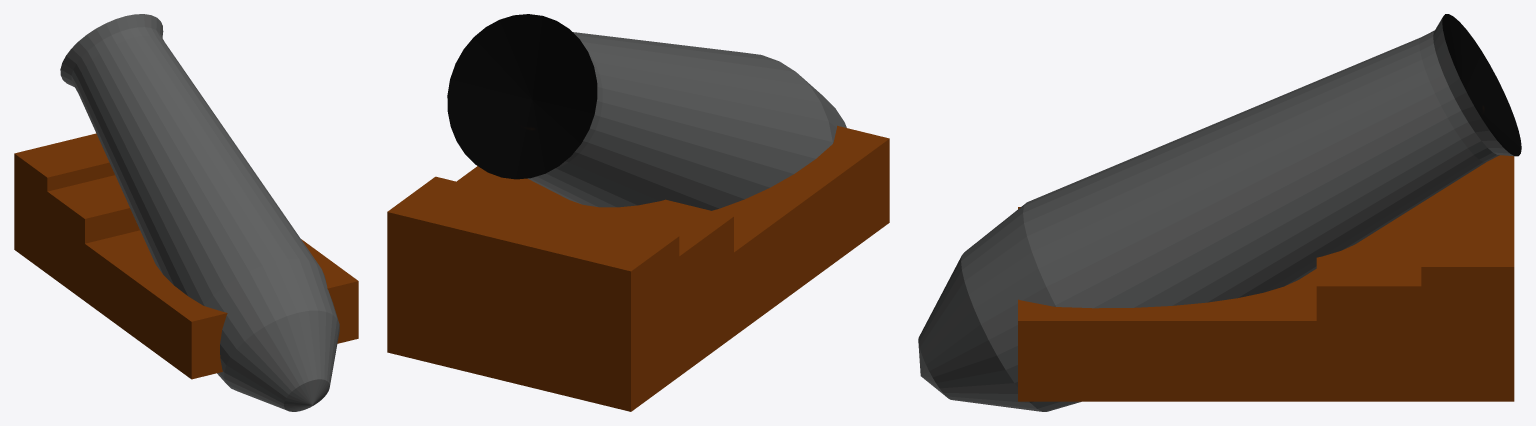
The model's file is Cannon.fbx.
3 views of the same model, side by side, from view 1: azimuth 30°, elevation 25°; view 2: azimuth 150°, elevation 25°; view 3: azimuth 270°, elevation 25° (orthographic). The views are drawn at different scales.
Parts seen in each view (by area): view 1: Cannon1.006; view 2: Cannon1.006; view 3: Cannon1.006.
Boxes of the visible parts, <box> form: Cannon1.006: <box>14,14,358,411</box>; Cannon1.006: <box>387,14,889,411</box>; Cannon1.006: <box>918,14,1521,411</box>.
Size of the model in its own units: 674 by 1049 by 1507.
